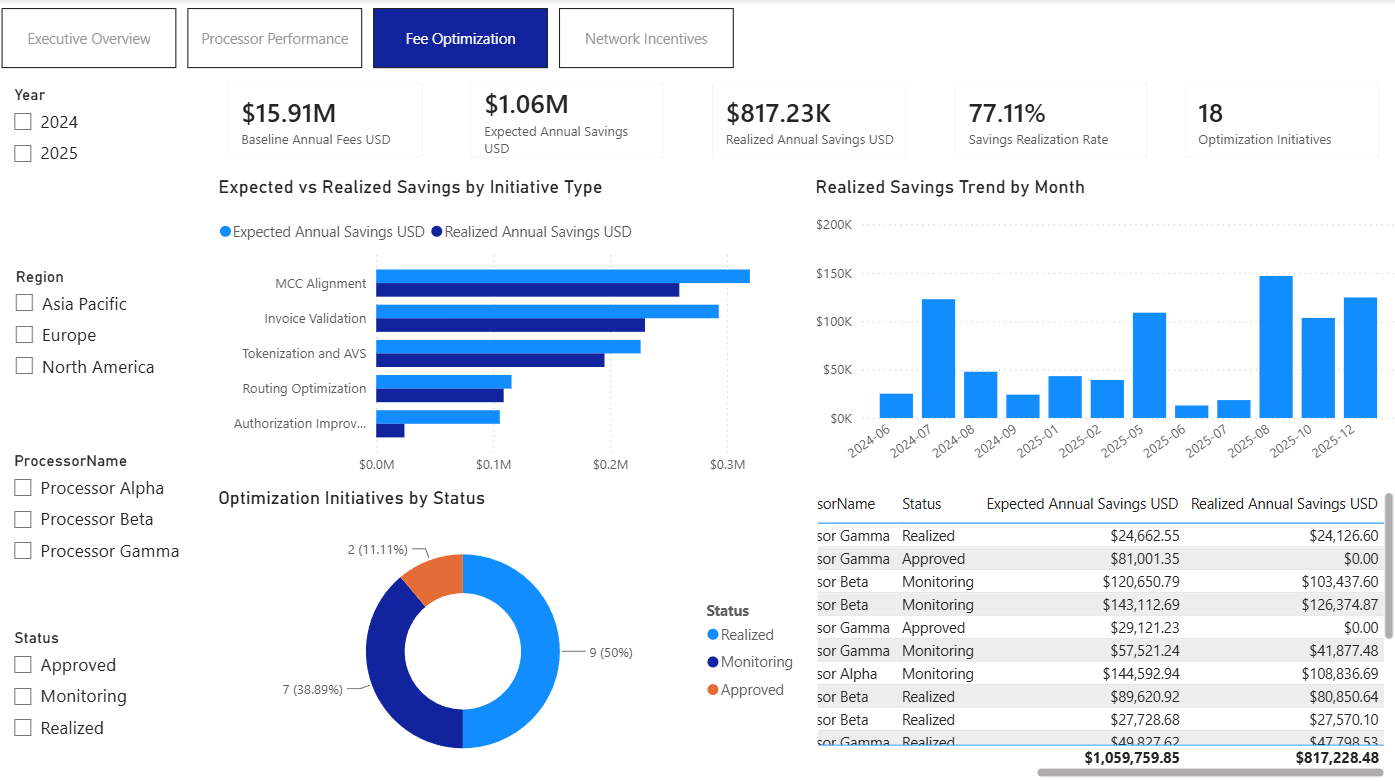

The dashboard page shown, as its layout file describes it:
{"tool":"powerbi","page":{"name":"Fee Optimization","canvas":[1280,720],"ordinal":2},"visuals":[{"type":"slicer","fields":{"Values":["DimMarket.Region"]},"box":[1.5,240.8,193.5,149.3],"z":0},{"type":"slicer","fields":{"Values":["DimProcessor.ProcessorName"]},"box":[0,408.4,195,149.3],"z":1000},{"type":"slicer","fields":{"Values":["FactOptimization.Status"]},"box":[0,571.4,195,149.3],"z":2000},{"type":"cardVisual","fields":{"Data":["AllMeasures.Baseline Annual Fees USD"]},"box":[190.5,59.4,213.3,103.6],"z":3000},{"type":"cardVisual","fields":{"Data":["AllMeasures.Expected Annual Savings USD"]},"box":[413,59.4,211.8,103.6],"z":4000},{"type":"cardVisual","fields":{"Data":["AllMeasures.Realized Annual Savings USD"]},"box":[633.9,59.4,213.3,103.6],"z":5000},{"type":"cardVisual","fields":{"Data":["AllMeasures.Savings Realization Rate"]},"box":[856.4,59.4,211.8,103.6],"z":6000},{"type":"cardVisual","fields":{"Data":["AllMeasures.Optimization Initiatives"]},"box":[1066.7,59.4,213.3,103.6],"z":7000},{"type":"clusteredBarChart","title":"Expected vs Realized Savings by Initiative Type","fields":{"Category":["FactOptimization.InitiativeType"],"Y":["AllMeasures.Expected Annual Savings USD","AllMeasures.Realized Annual Savings USD"]},"box":[195,162.5,545.5,281.9],"z":8000},{"type":"columnChart","title":"Realized Savings Trend by Month","fields":{"Category":["DimDate.Year Month"],"Y":["AllMeasures.Realized Annual Savings USD"]},"box":[740.6,162.5,539.4,280.4],"z":9000},{"type":"donutChart","fields":{"Category":["FactOptimization.Status"],"Y":["AllMeasures.Optimization Initiatives"]},"box":[195,446.5,545.5,271.2],"z":10000},{"type":"tableEx","fields":{"Values":["FactOptimization.InitiativeType","DimMarket.MarketName","DimProcessor.ProcessorName","FactOptimization.Status","AllMeasures.Expected Annual Savings USD","AllMeasures.Realized Annual Savings USD"]},"box":[742.1,446.5,537.9,271.2],"z":11000},{"type":"slicer","fields":{"Values":["DimDate.Year"]},"box":[0,74.7,195,149.3],"z":12000},{"type":"pageNavigator","box":[1.9,7.7,672.1,55.8],"z":13000}]}

Visuals, with their boxes in screenshot pixels (x1, y1, x2, y2), scaled from the page's 1280x720 canvas onto the 1395x781 screenshot:
slicer - DimMarket.Region: detection(2, 261, 213, 423)
slicer - DimProcessor.ProcessorName: detection(0, 443, 213, 605)
slicer - FactOptimization.Status: detection(0, 620, 213, 780)
cardVisual - AllMeasures.Baseline Annual Fees USD: detection(208, 64, 440, 177)
cardVisual - AllMeasures.Expected Annual Savings USD: detection(450, 64, 681, 177)
cardVisual - AllMeasures.Realized Annual Savings USD: detection(691, 64, 923, 177)
cardVisual - AllMeasures.Savings Realization Rate: detection(933, 64, 1164, 177)
cardVisual - AllMeasures.Optimization Initiatives: detection(1163, 64, 1394, 177)
"Expected vs Realized Savings by Initiative Type" clusteredBarChart: detection(213, 176, 807, 482)
"Realized Savings Trend by Month" columnChart: detection(807, 176, 1394, 480)
donutChart - FactOptimization.Status x AllMeasures.Optimization Initiatives: detection(213, 484, 807, 779)
tableEx - FactOptimization.InitiativeType x DimMarket.MarketName: detection(809, 484, 1394, 779)
slicer - DimDate.Year: detection(0, 81, 213, 243)
pageNavigator: detection(2, 8, 735, 69)
